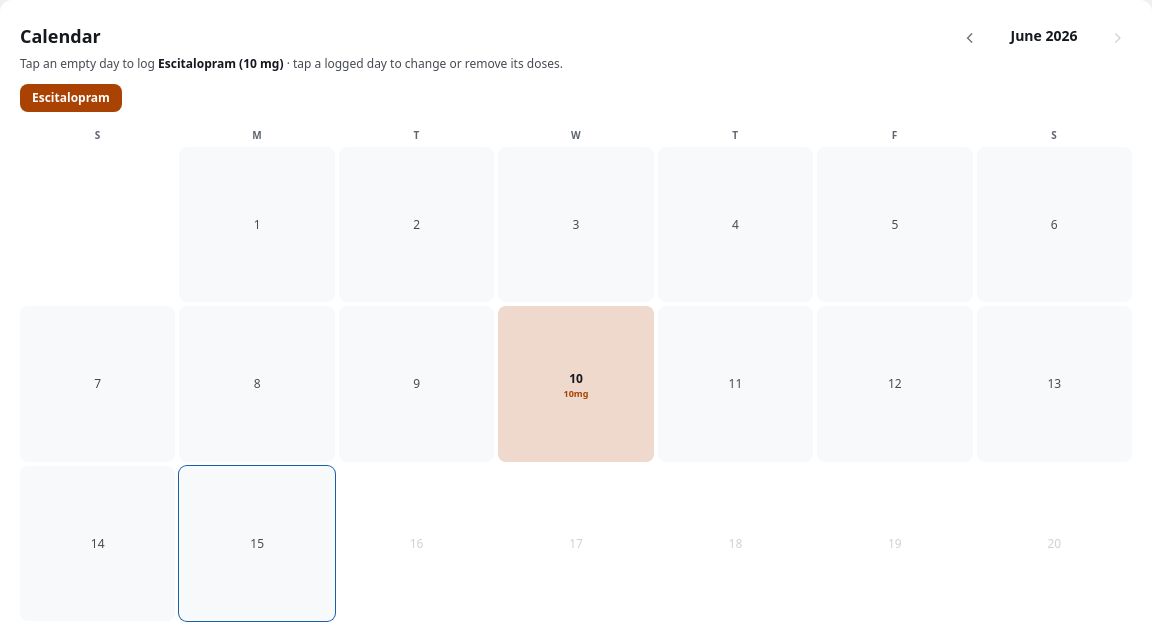
Test: MedicationCalendar › opens a modal dialog for a logged day, showing dose and time
The image size is (1152, 626).
Click the button with aria-label "View 1 intake of Escitalopram on Jun 10".
click(576, 384)  # box x1=498 y1=306 x2=654 y2=462
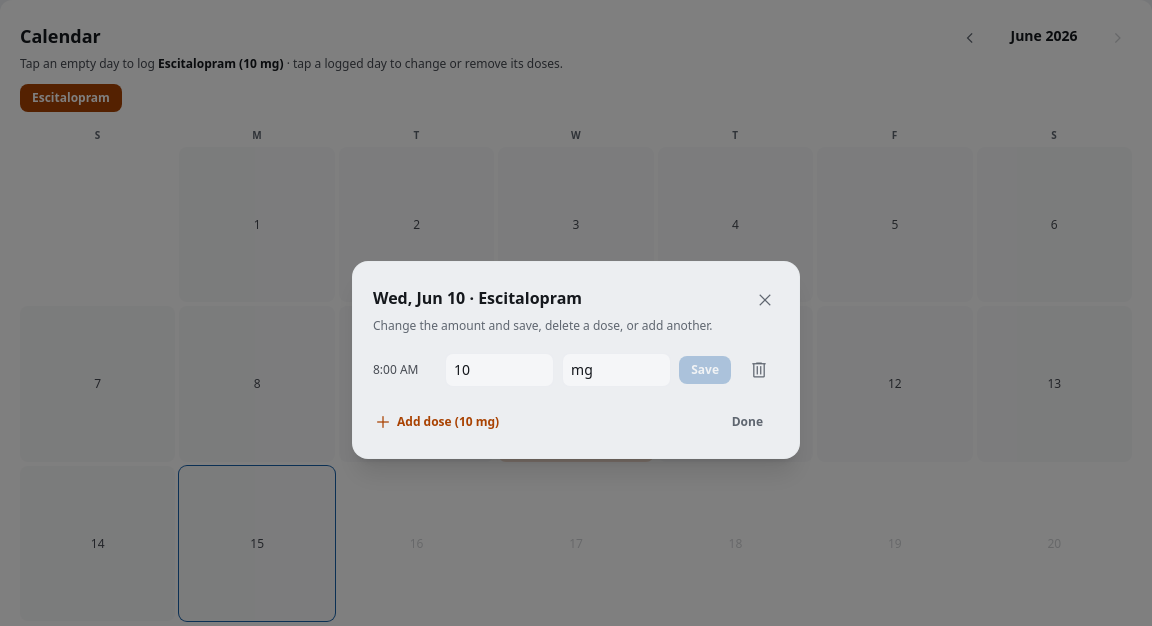
Expected: the dialog named "doses on jun 10" shows "Change the amount and save, delete a dose", x1=373 y1=317 x2=713 y2=334
Expected: the number field named "amount for intake" holds "10", x1=445 y1=353 x2=554 y2=387
Expected: the field named "unit for intake" holds "mg", x1=562 y1=353 x2=671 y2=387
